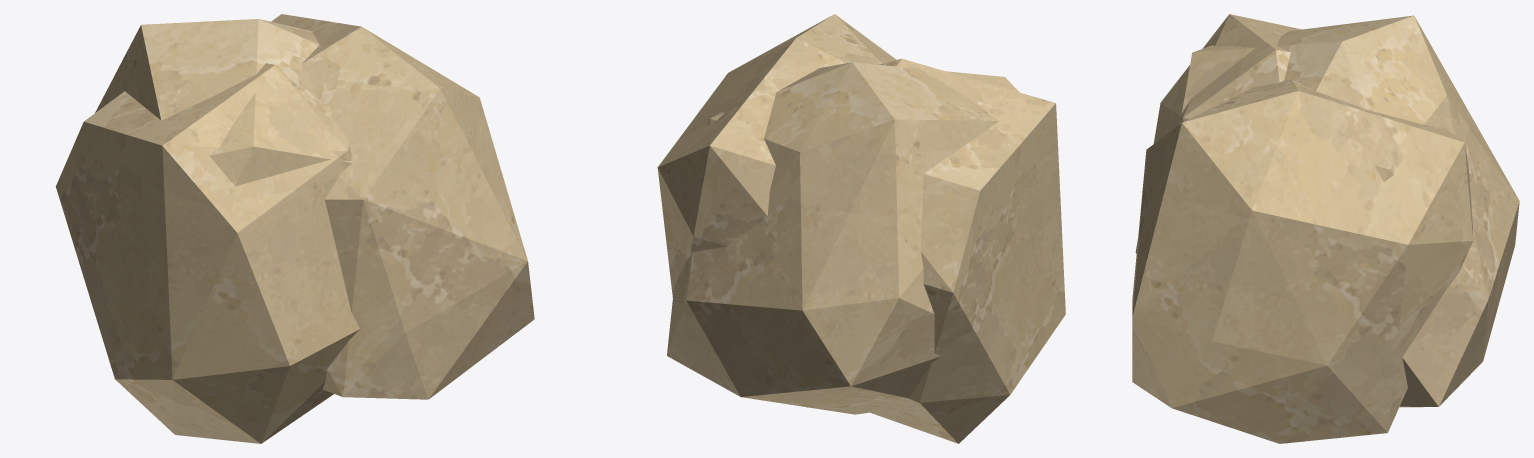
Rendered from ground_bottom_square_interior_09.glb.
3 views of the same model, side by side, from view 1: azimuth 30°, elevation 25°; view 2: azimuth 150°, elevation 25°; view 3: azimuth 270°, elevation 25° (orthographic). The views are drawn at different scales.
Parts seen in each view (by area): view 1: GroundBottomSquareInterior09_Body; view 2: GroundBottomSquareInterior09_Body; view 3: GroundBottomSquareInterior09_Body.
Part boxes in pixels (x1=…): GroundBottomSquareInterior09_Body: x1=55, y1=14, x2=534, y2=443; GroundBottomSquareInterior09_Body: x1=657, y1=14, x2=1065, y2=443; GroundBottomSquareInterior09_Body: x1=1132, y1=14, x2=1519, y2=443.
Bounding box in the file's own units: 1 × 1.07 × 1.
1 material, 1 textured.
